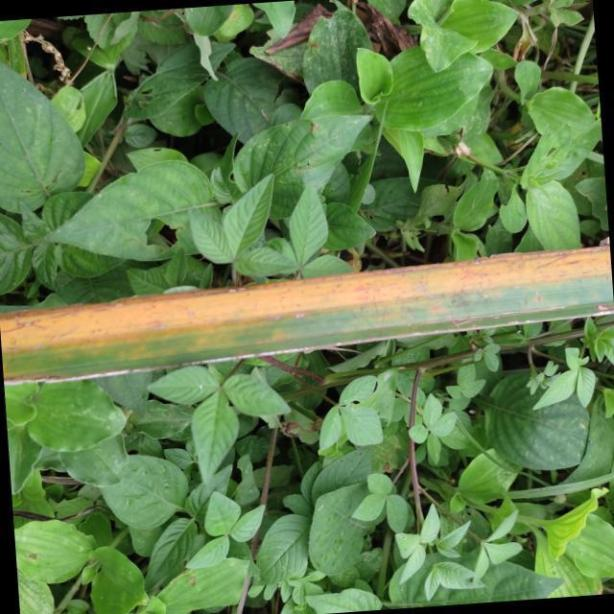Megnesium: (0, 238, 614, 384)
